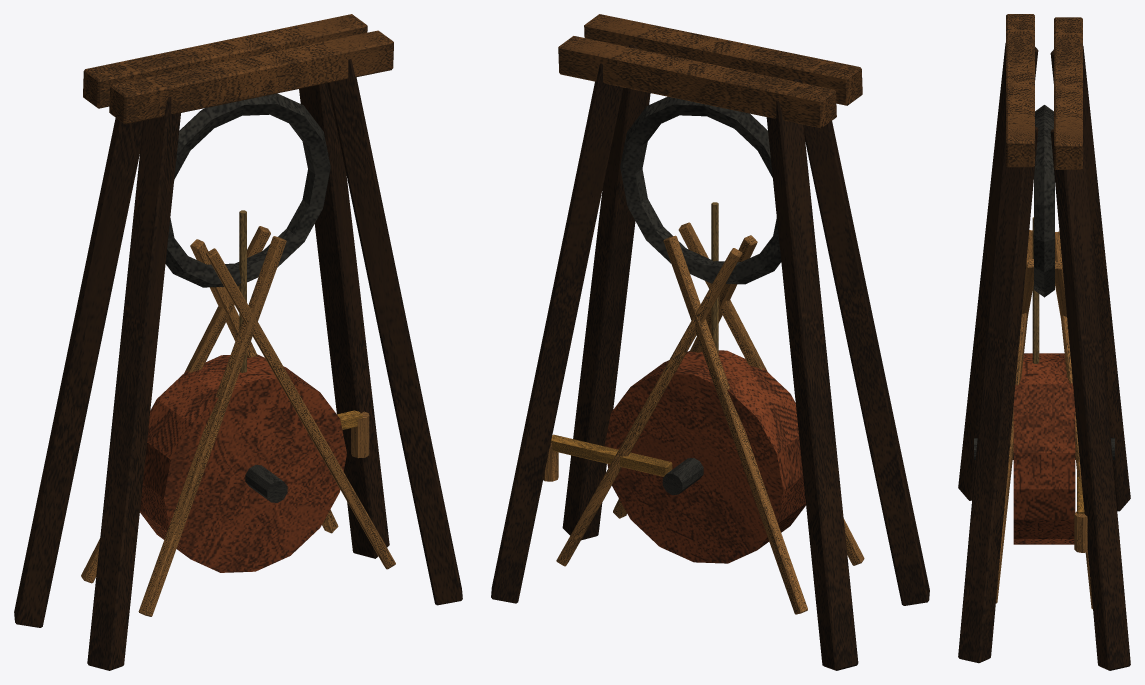
File: north_bank_winch.glb
3 views of the same model, side by side, from view 1: azimuth 30°, elevation 25°; view 2: azimuth 150°, elevation 25°; view 3: azimuth 270°, elevation 25° (orthographic). The views are drawn at different scales.
Visible parts, largest first — view 1: north_bank_winch; view 2: north_bank_winch; view 3: north_bank_winch.
Boxes of the visible parts, bbox=[...] form: north_bank_winch: bbox=[14, 14, 462, 670]; north_bank_winch: bbox=[491, 14, 929, 670]; north_bank_winch: bbox=[958, 14, 1130, 670].
Size of the model in its own units: 4.58 by 6.71 by 2.02.
1 material, 1 textured.
